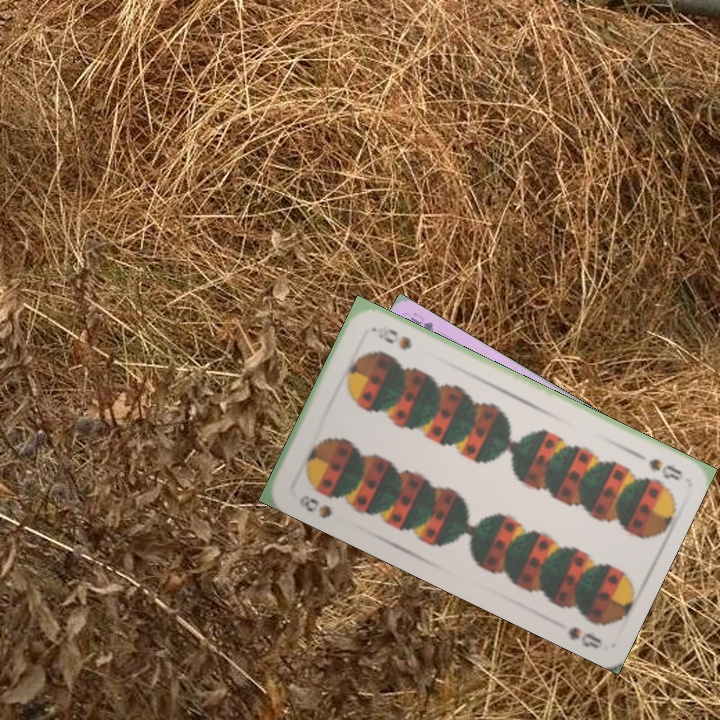S8: (295, 491, 335, 521), (645, 454, 685, 483)
